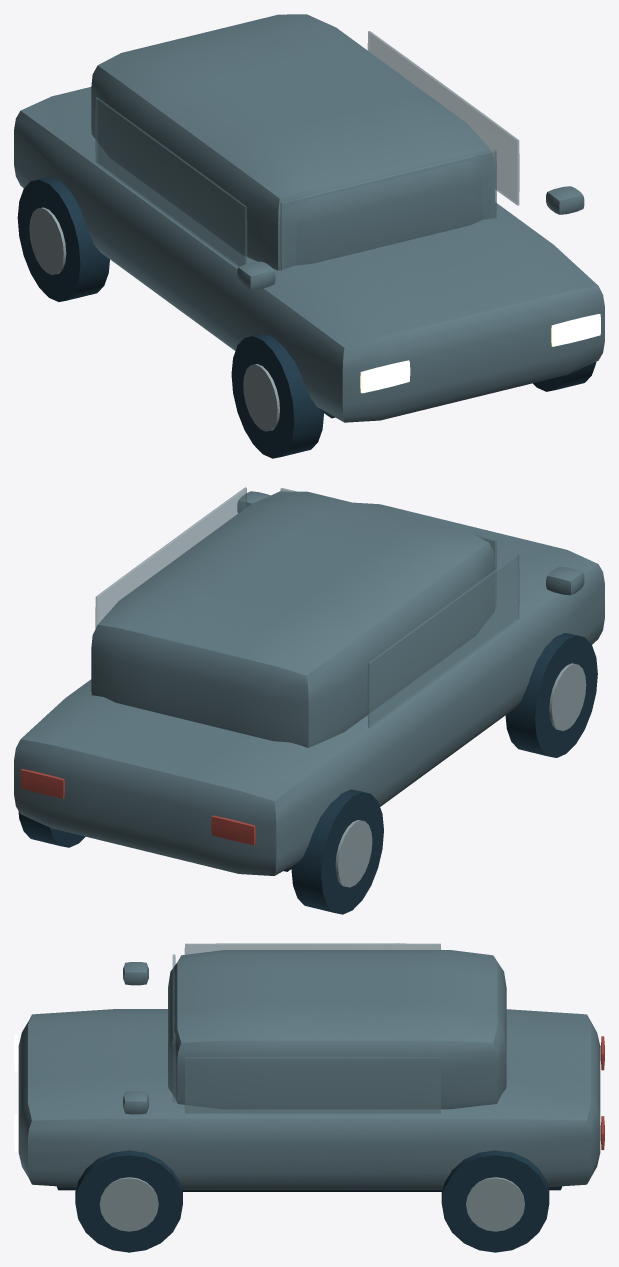
Rendered from car.glb.
3 views of the same model, one above another, from view 1: azimuth 30°, elevation 25°; view 2: azimuth 150°, elevation 25°; view 3: azimuth 270°, elevation 25° (orthographic). The views are drawn at different scales.
Parts seen in each view (by area): view 1: car; view 2: car; view 3: car.
Boxes of the visible parts, x1=… form: car: x1=14, y1=14, x2=604, y2=458; car: x1=14, y1=487, x2=604, y2=914; car: x1=14, y1=943, x2=604, y2=1252.
Bounding box in the file's own units: 1.92 × 1.28 × 3.41.
Materials: 20 (20 with a texture image).
